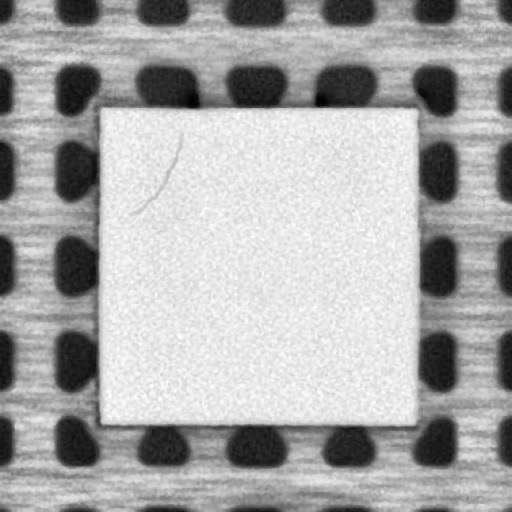DIE_CRACK: (127, 134, 183, 213)
